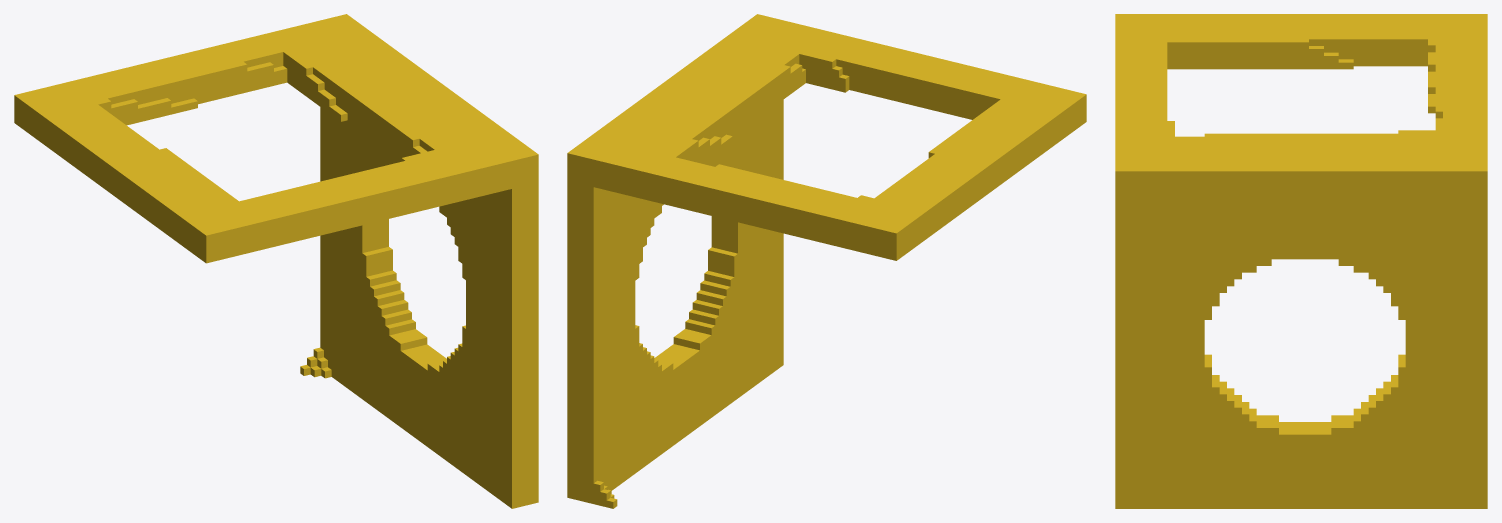
Rendered from chunk-model-1-1.gltf.
3 renders of one model, left to right at view 1: azimuth 30°, elevation 25°; view 2: azimuth 150°, elevation 25°; view 3: azimuth 270°, elevation 25°, orthographic. The views are drawn at different scales.
Parts seen in each view (by area): view 1: 00-Local; view 2: 00-Local; view 3: 00-Local.
Boxes of the visible parts, x1=… form: 00-Local: x1=14, y1=14, x2=538, y2=508; 00-Local: x1=567, y1=14, x2=1086, y2=508; 00-Local: x1=1115, y1=14, x2=1487, y2=508.
Bounding box in the file's own units: 50 × 50 × 50.
Materials: 1 (1 with a texture image).
